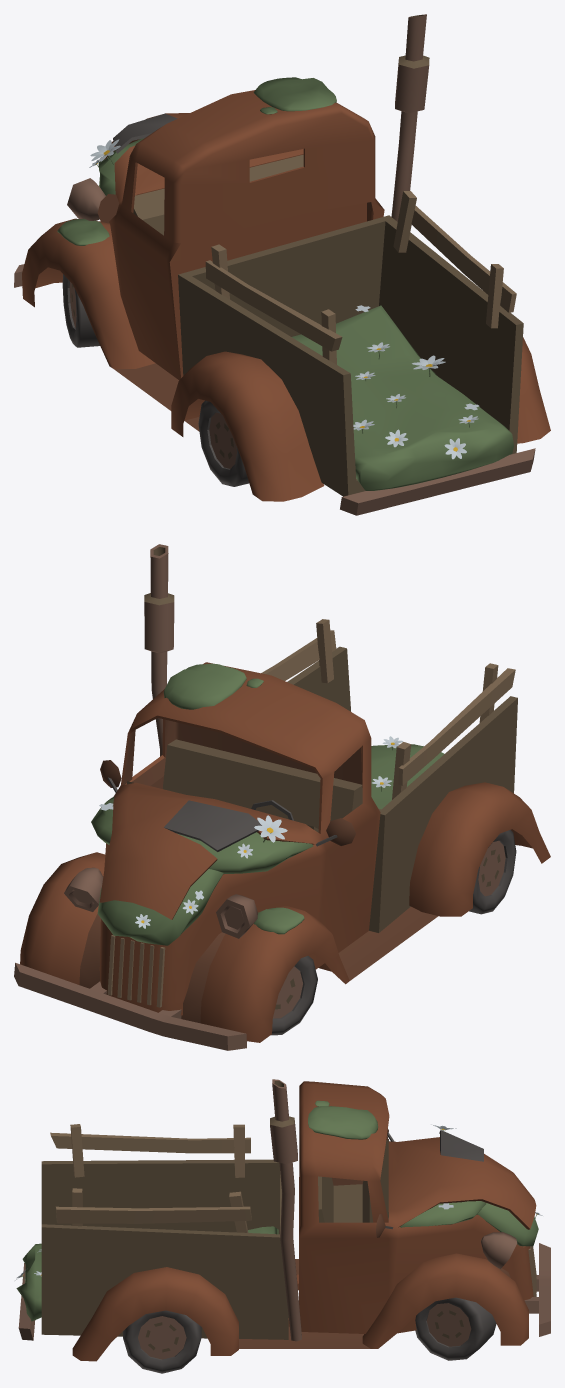
File: P_car_01_LD.fbx
The picture shows the model from 3 angles, top to bottom: view 1: azimuth 30°, elevation 25°; view 2: azimuth 150°, elevation 25°; view 3: azimuth 270°, elevation 25°; orthographic projection. The views are drawn at different scales.
Parts seen in each view (by area): view 1: P_car_01; view 2: P_car_01; view 3: P_car_01.
Part boxes in pixels (x1=…): P_car_01: x1=14, y1=14, x2=550, y2=515; P_car_01: x1=14, y1=544, x2=550, y2=1050; P_car_01: x1=15, y1=1079, x2=550, y2=1373.
Bounding box in the file's own units: 2.95 × 3.45 × 5.74.
Materials: 1 (1 with a texture image).
